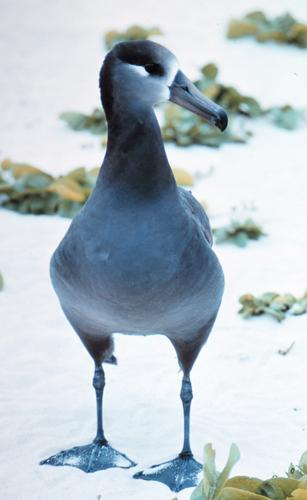001.Black_footed_Albatross: (48, 43, 234, 496)
